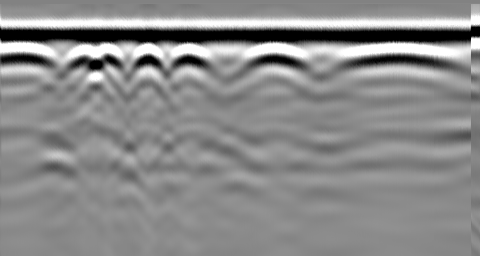steel: (346, 43, 463, 71), (243, 44, 312, 70), (69, 46, 124, 71), (1, 45, 52, 67), (167, 45, 211, 70), (129, 46, 164, 72)
